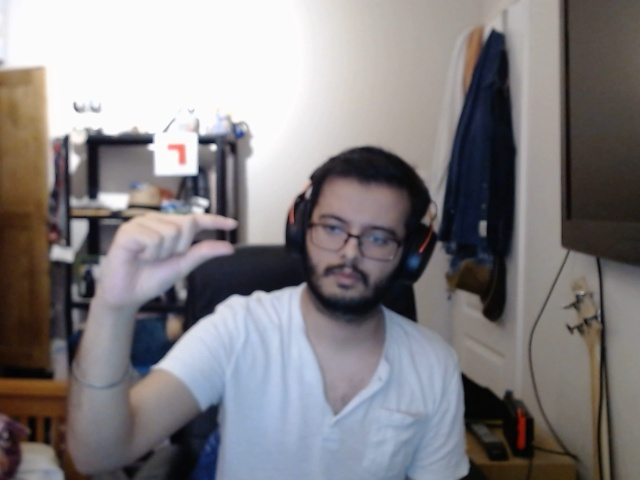Small: (82, 205, 253, 310)
